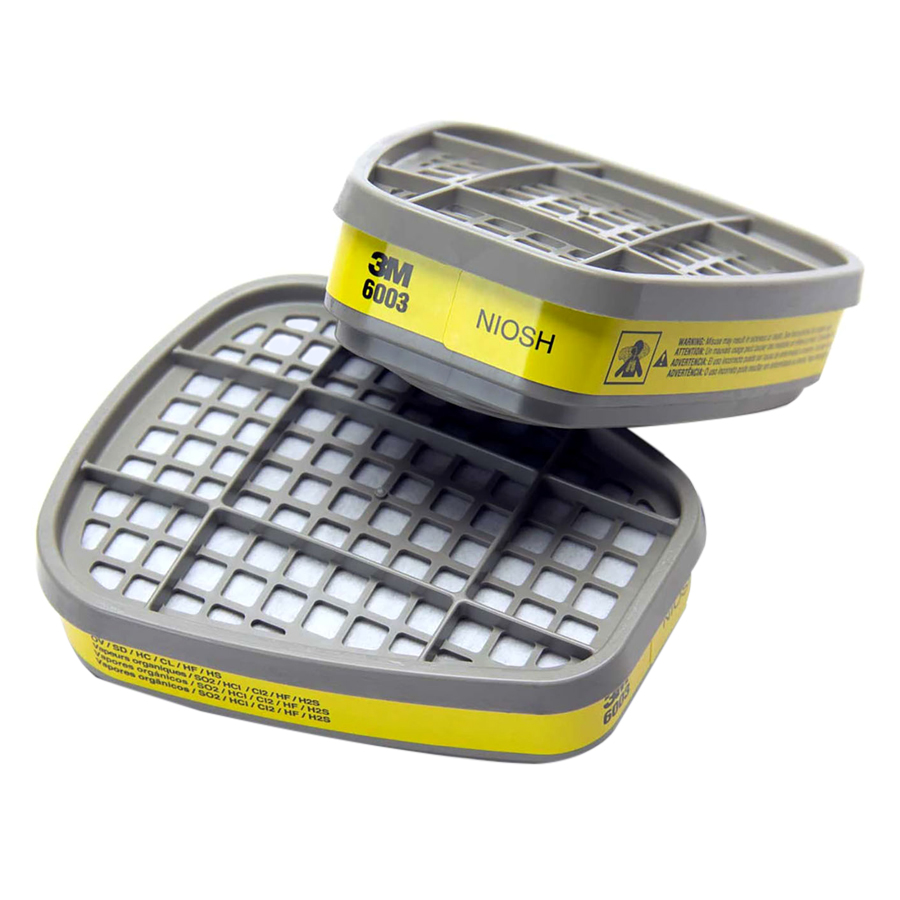3M: (367, 244, 420, 294)
